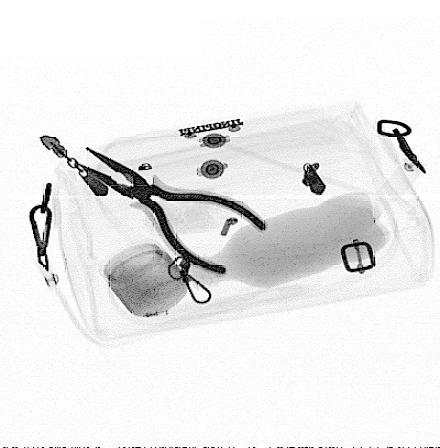Pliers: (70, 144, 269, 277)
